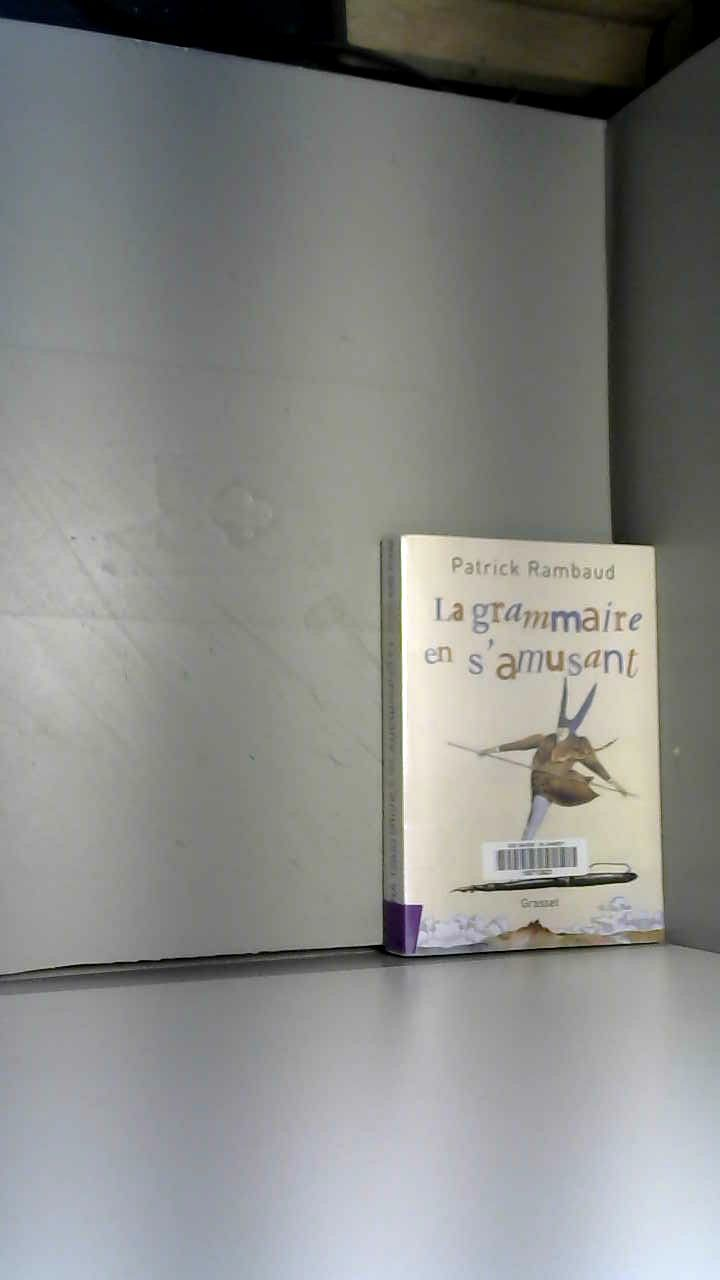book: (350, 498, 696, 993)
